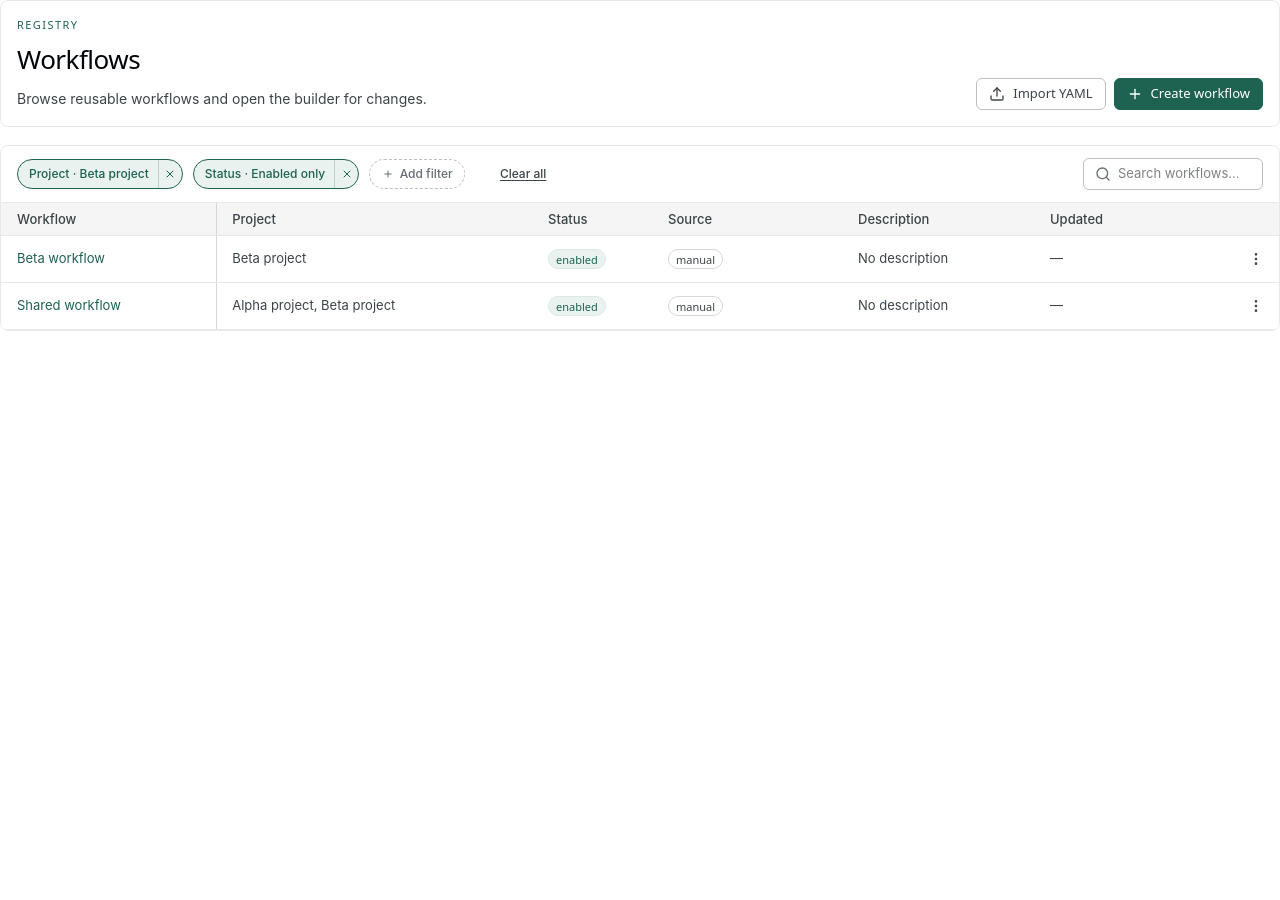
Test: clears project and status together with Clear all
Expected: the link "Beta workflow" is shown, left=17, top=250, right=105, bottom=266
Click the button "Clear all": coordinates (523, 174) left=475, top=159, right=571, bottom=189
(page scrolled)
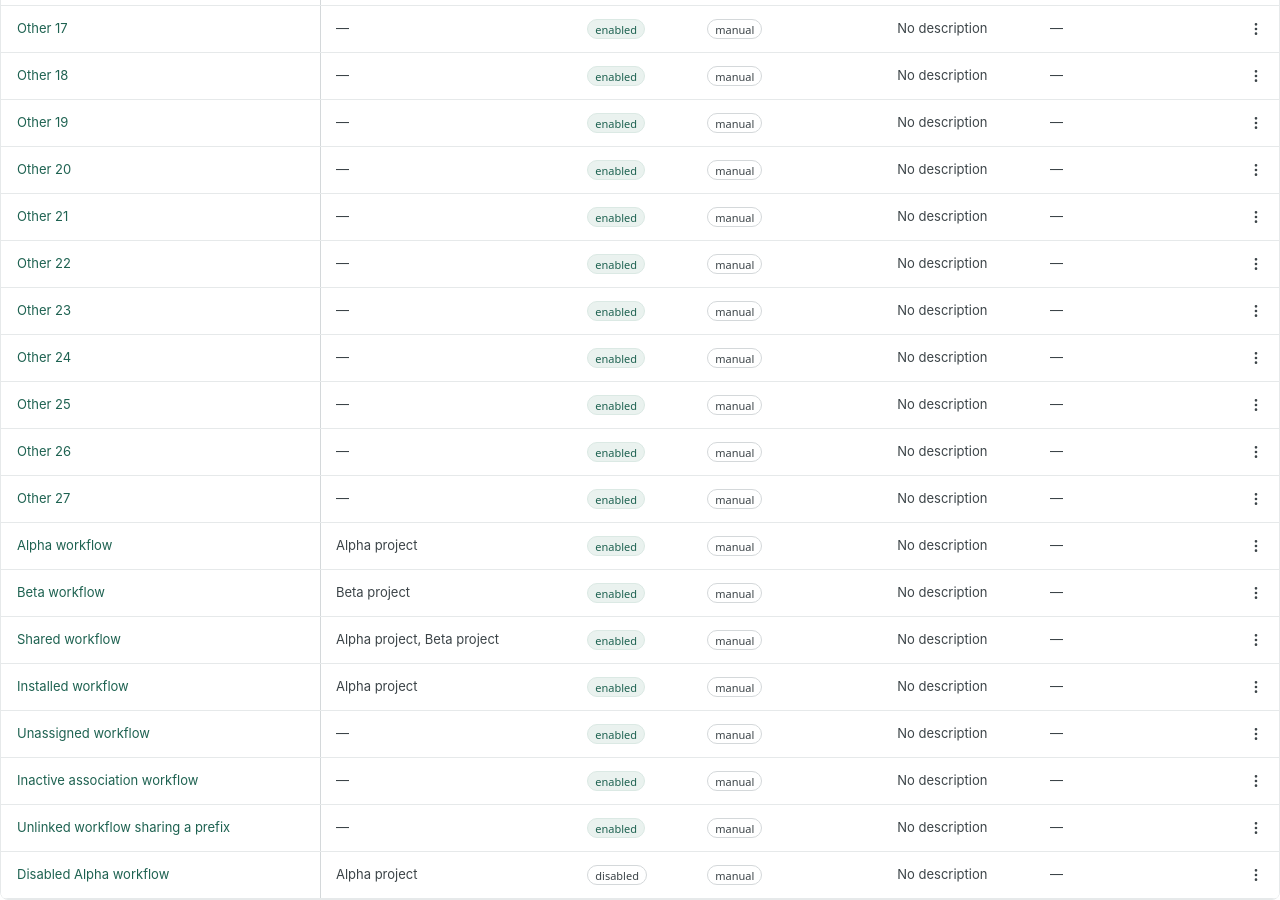
Expected: the link "Unassigned workflow" is shown, left=17, top=725, right=150, bottom=741
